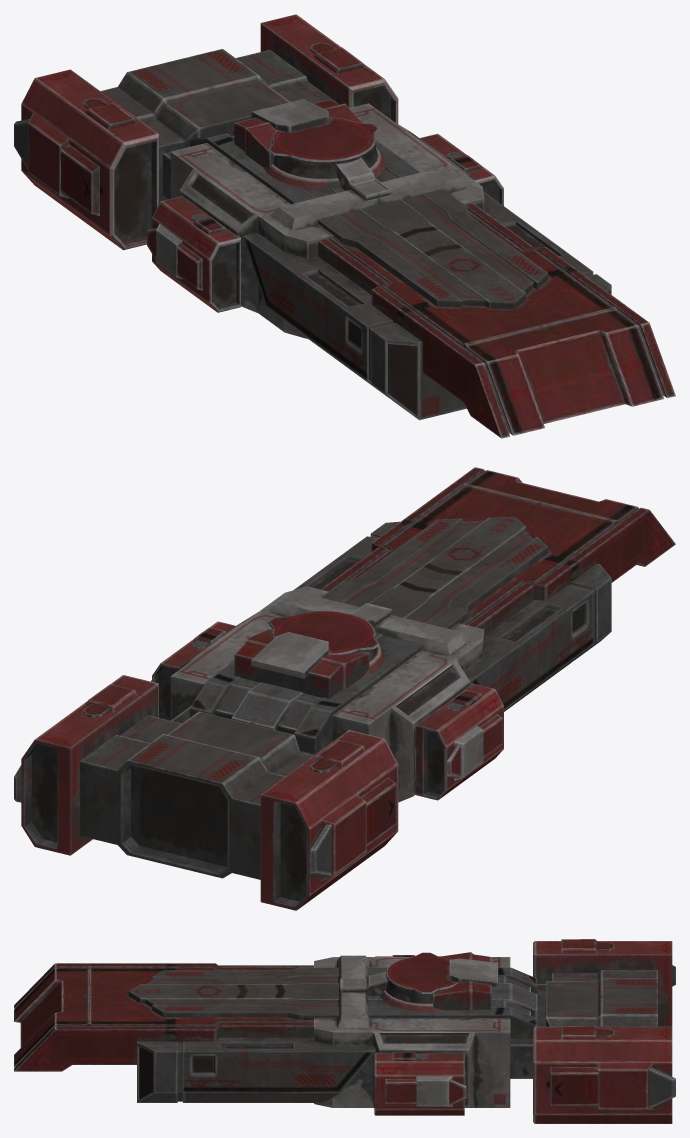
Rendered from imperial_red.glb.
The picture shows the model from 3 angles, top to bottom: view 1: azimuth 30°, elevation 25°; view 2: azimuth 150°, elevation 25°; view 3: azimuth 270°, elevation 25°; orthographic projection. The views are drawn at different scales.
Visible parts, largest first — view 1: imperial; view 2: imperial; view 3: imperial.
Boxes of the visible parts, box(x1,y1,x2,y2) form: imperial: box(14, 14, 675, 438); imperial: box(14, 467, 675, 910); imperial: box(14, 939, 675, 1123).
Size of the model in its own units: 7.73 by 3.3 by 18.55.
1 material, 1 textured.
